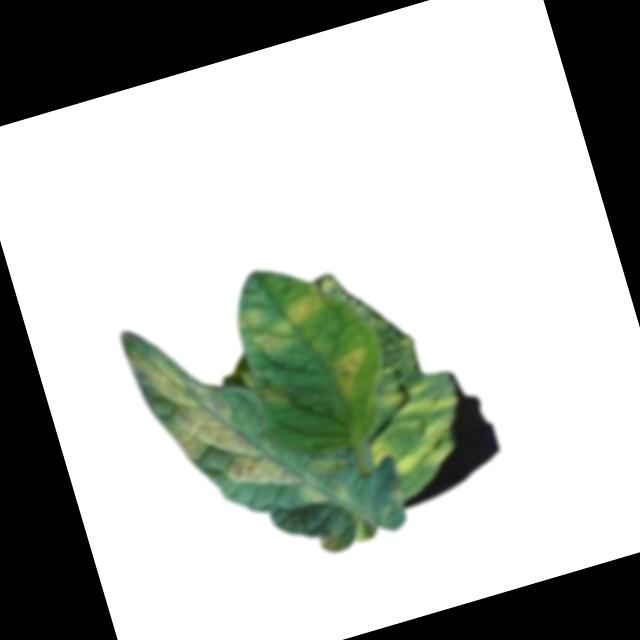Leaf_Mold: (126, 316, 300, 521), (353, 373, 469, 482), (231, 285, 335, 368), (325, 341, 380, 400), (317, 526, 344, 555)
